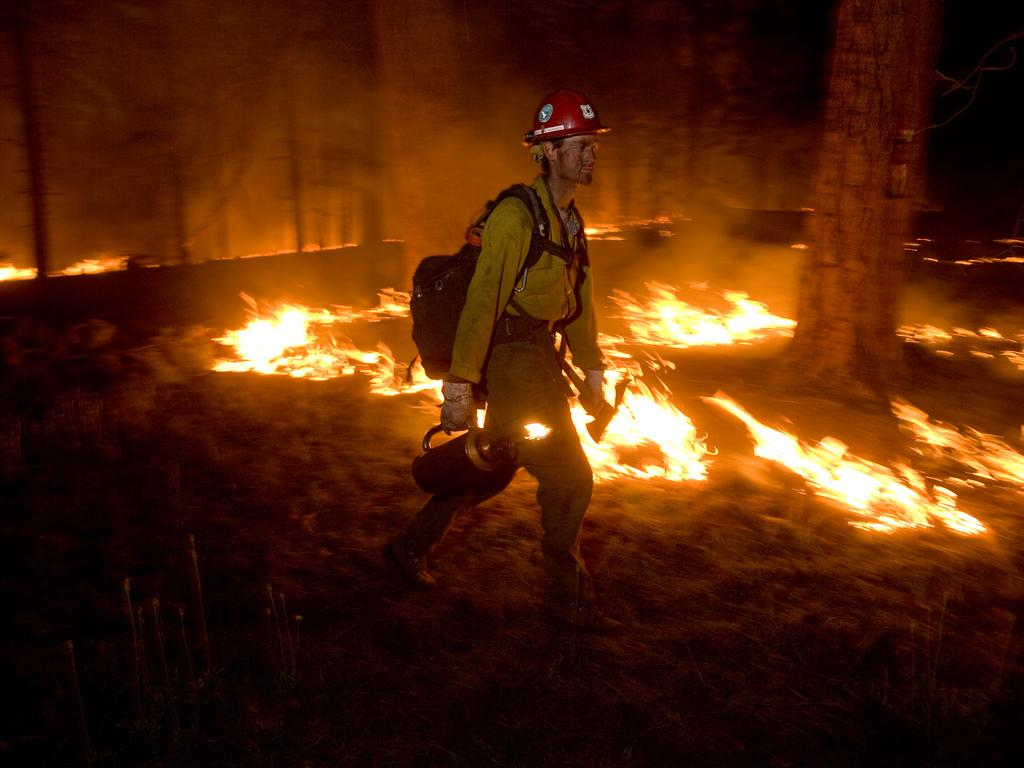fire: (644, 274, 784, 340), (598, 382, 696, 476), (228, 302, 322, 368), (770, 424, 868, 480), (758, 440, 792, 452)
